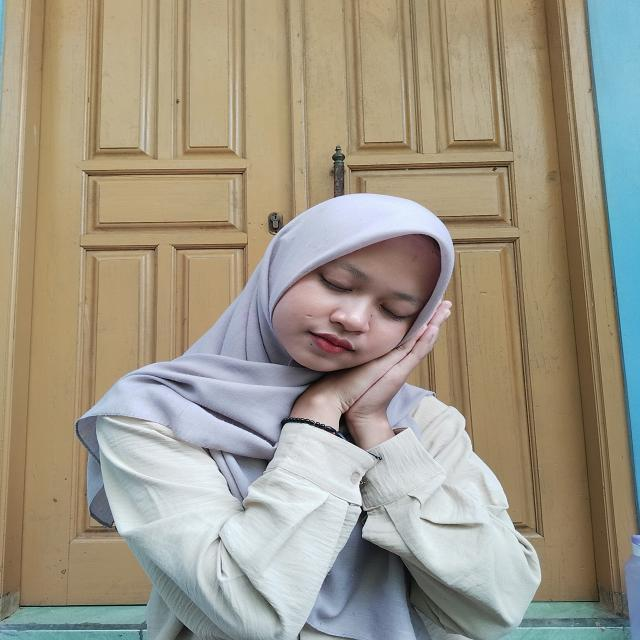tidur: (266, 303, 465, 464)
